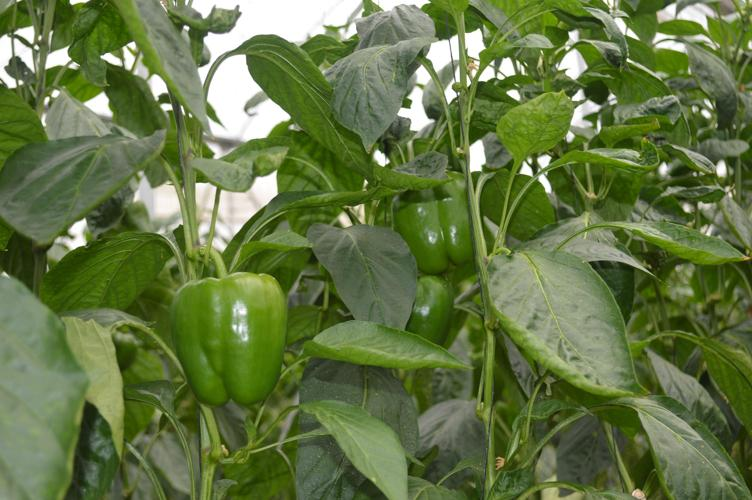BellPepper: (163, 267, 299, 414), (387, 153, 487, 273), (382, 267, 460, 360)
